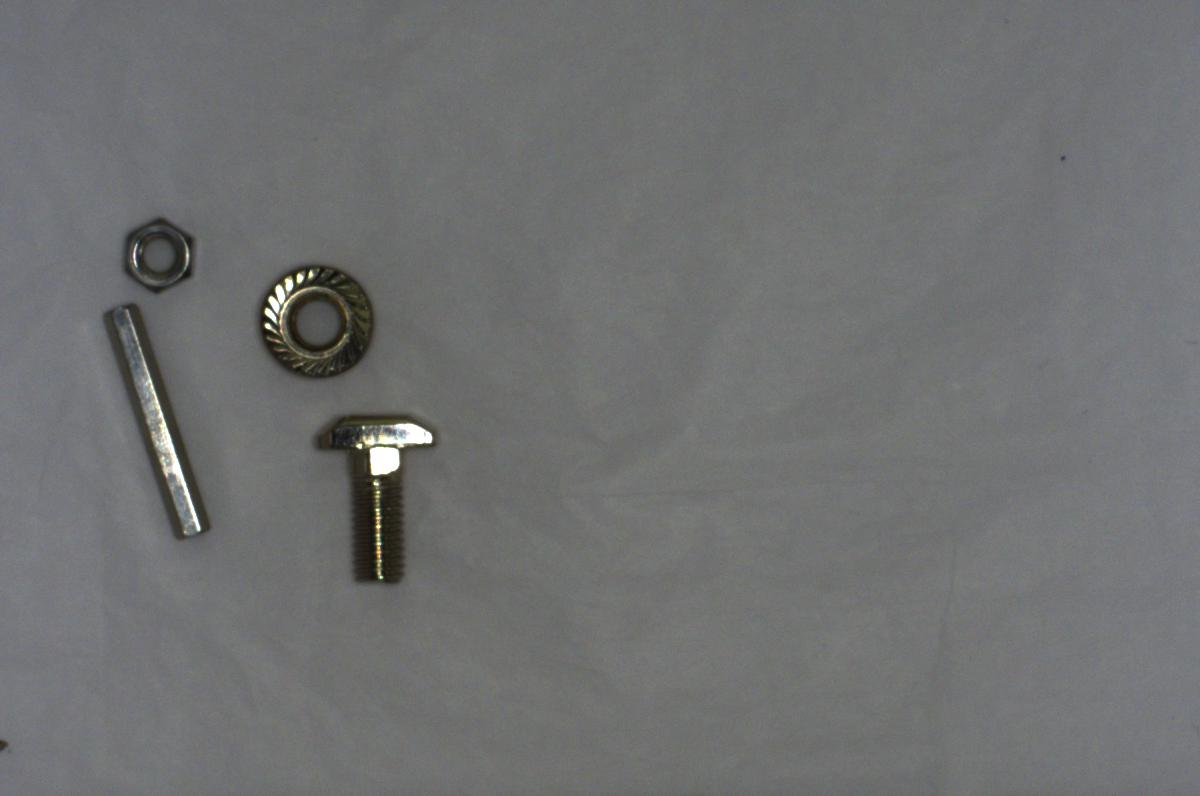Double hexagonal column: (104, 299, 219, 546)
Flange nut: (252, 260, 388, 382)
Hexagon nut: (122, 208, 208, 298)
T-shaped screw: (312, 405, 447, 595)
